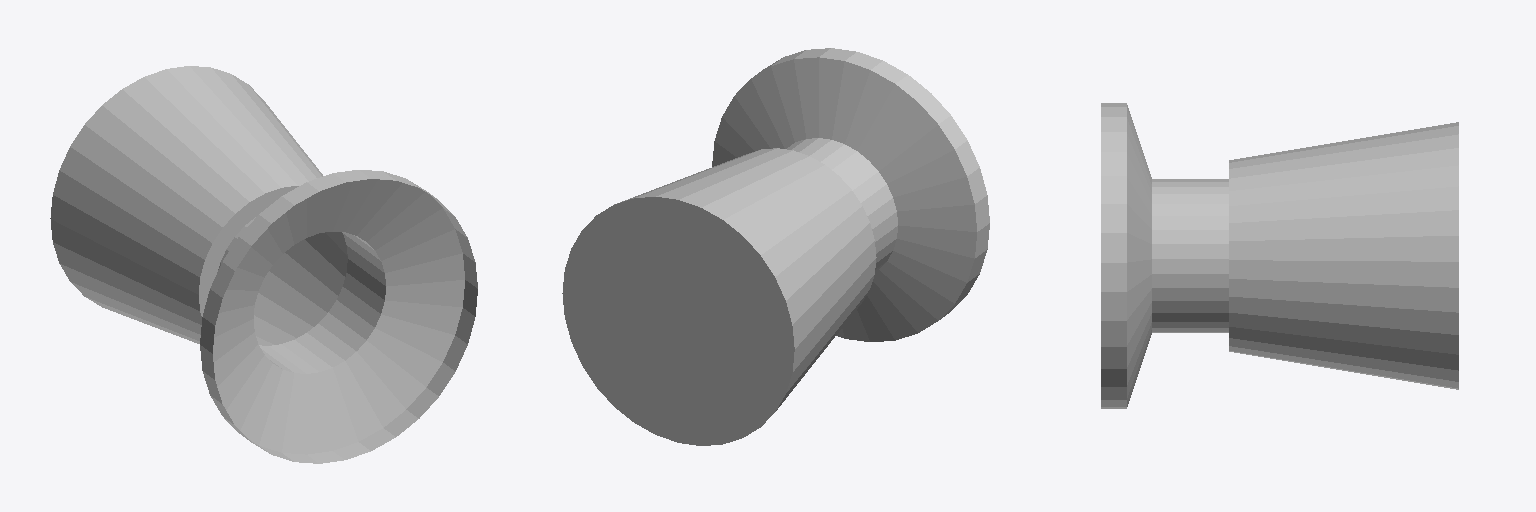
The model's file is sgc_door_knob_cylinder.obj.
The picture shows the model from 3 angles: view 1: azimuth 30°, elevation 25°; view 2: azimuth 150°, elevation 25°; view 3: azimuth 270°, elevation 25°; orthographic projection.
Visible parts, largest first — view 1: Door_Knob_Cylinder_Low; view 2: Door_Knob_Cylinder_Low; view 3: Door_Knob_Cylinder_Low.
Part boxes in pixels (x1,y1,x2,y2): Door_Knob_Cylinder_Low: (50,66,477,463); Door_Knob_Cylinder_Low: (562,48,989,445); Door_Knob_Cylinder_Low: (1101,103,1458,408).
Bounding box in the file's own units: 0.0762 × 0.0762 × 0.0889.